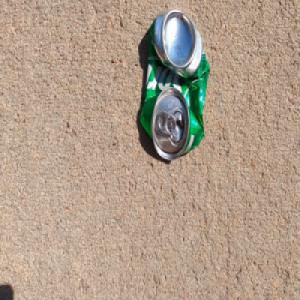SodaCan: (138, 8, 209, 163)
